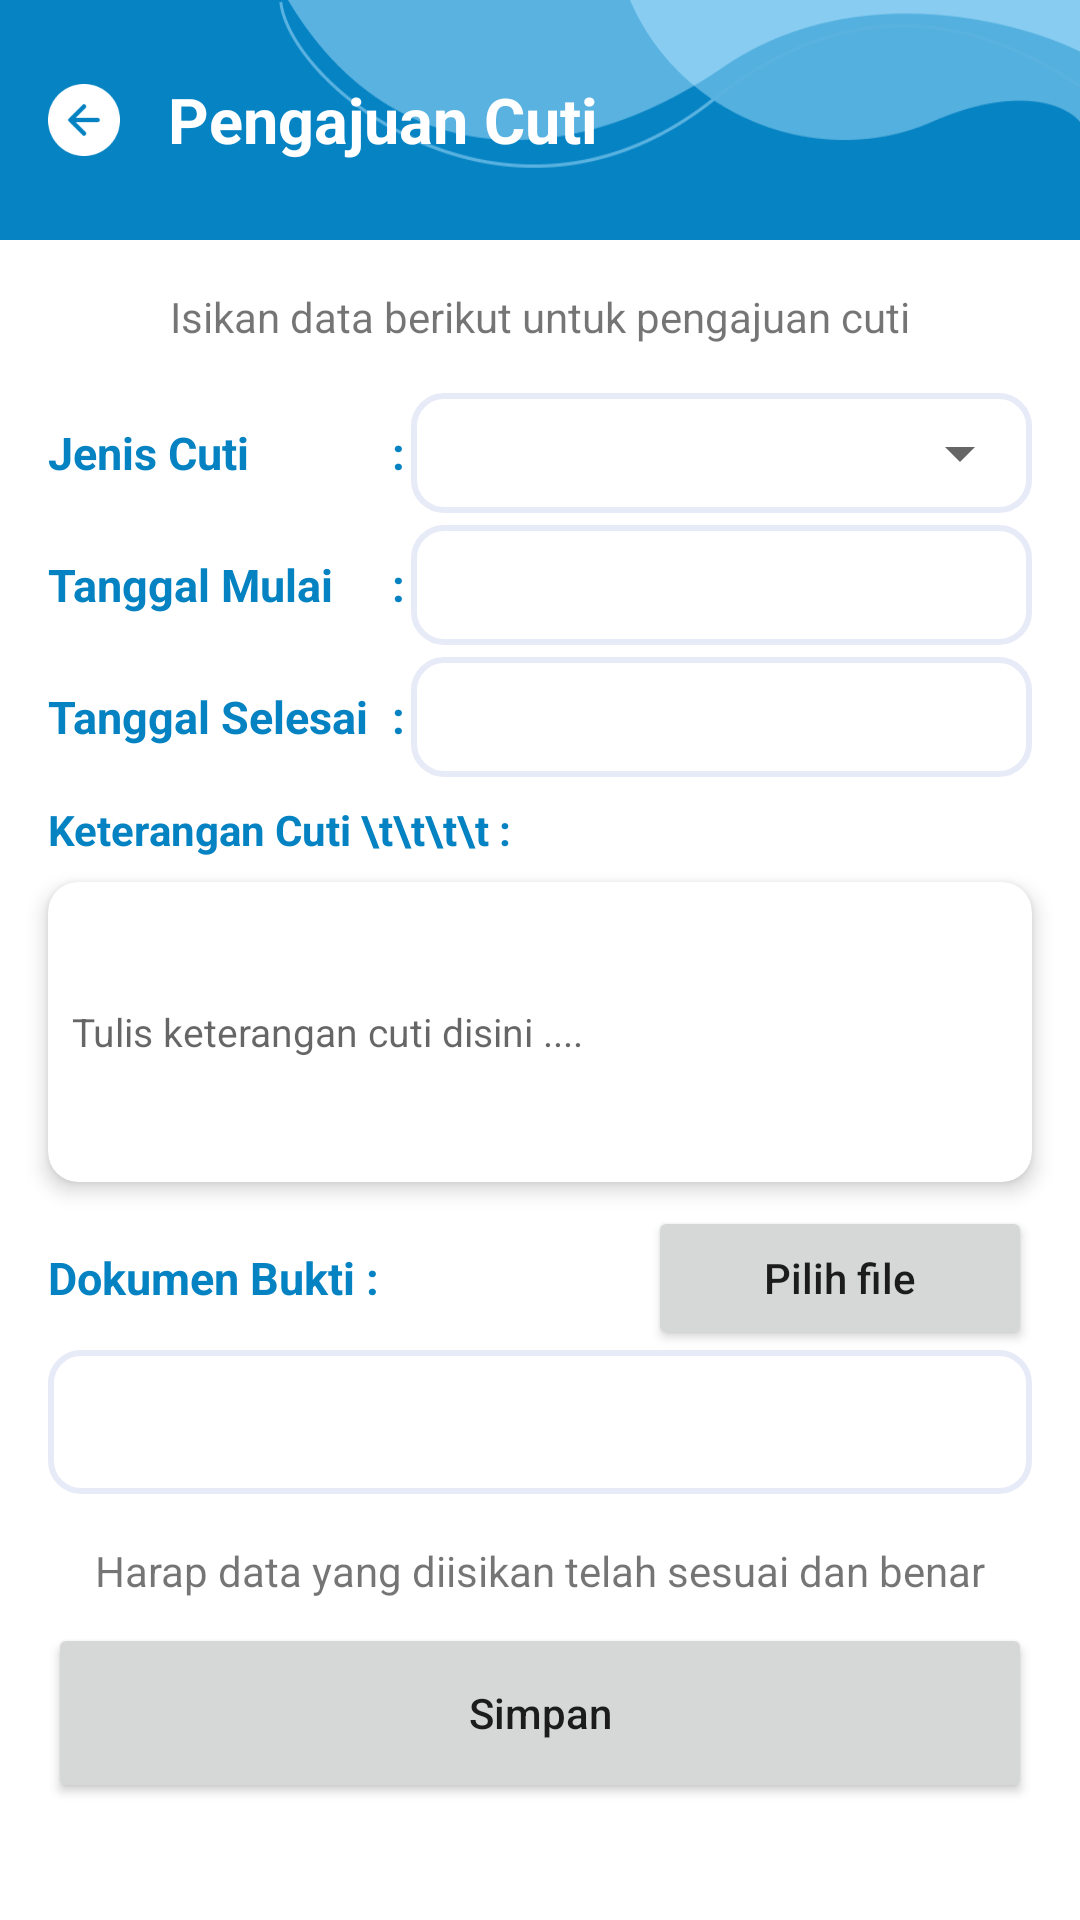

Screen size 1080*1920. Icon name, then its box in pixels as Rect(x1, y1, x2, y2):
back: Rect(48, 84, 120, 156)
